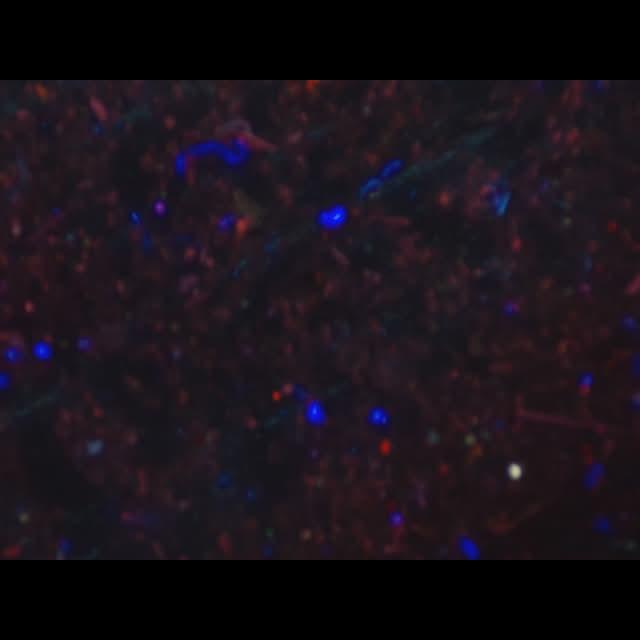microbeads: (508, 462, 522, 480)
